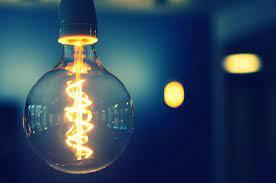Lamp: (21, 0, 137, 177)
